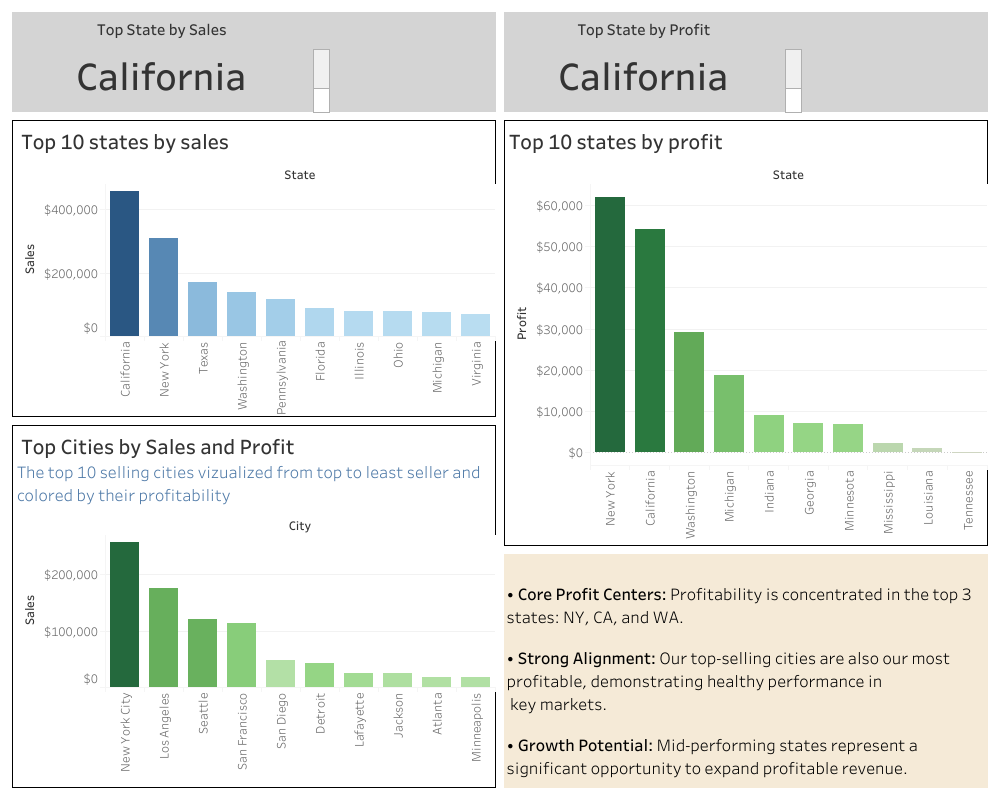

This screenshot's page, from the dashboard's own definition file:
{"tool":"tableau","page":{"name":"Dashboard 3","canvas":[1000,800],"ordinal":2},"visuals":[{"type":"worksheet","title":"KPI - top sales state","mark":"Text","box":[8,8,492,108]},{"type":"worksheet","title":"KPI - top profit state","mark":"Text","box":[500,8,492,108]},{"type":"worksheet","title":"Sales by state","mark":"Automatic","rows":["Sales"],"cols":["State"],"box":[8,116,492,305]},{"type":"worksheet","title":"Profit by state","mark":"Automatic","rows":["Profit"],"cols":["State"],"box":[500,116,492,434]},{"type":"worksheet","title":"Top selling cities","mark":"Automatic","rows":["Sales"],"cols":["City"],"box":[8,421,492,371]},{"type":"text","box":[500,550,492,242]}]}

Visuals, with their boxes in screenshot pixels (x1, y1, x2, y2), scaled from the page's 1000x800 canvas onto the 999x799 screenshot:
"KPI - top sales state" worksheet (Text marks): left=8, top=8, right=500, bottom=116
"KPI - top profit state" worksheet (Text marks): left=500, top=8, right=991, bottom=116
"Sales by state" worksheet: left=8, top=116, right=500, bottom=420
"Profit by state" worksheet: left=500, top=116, right=991, bottom=549
"Top selling cities" worksheet: left=8, top=420, right=500, bottom=791
text: left=500, top=549, right=991, bottom=791
